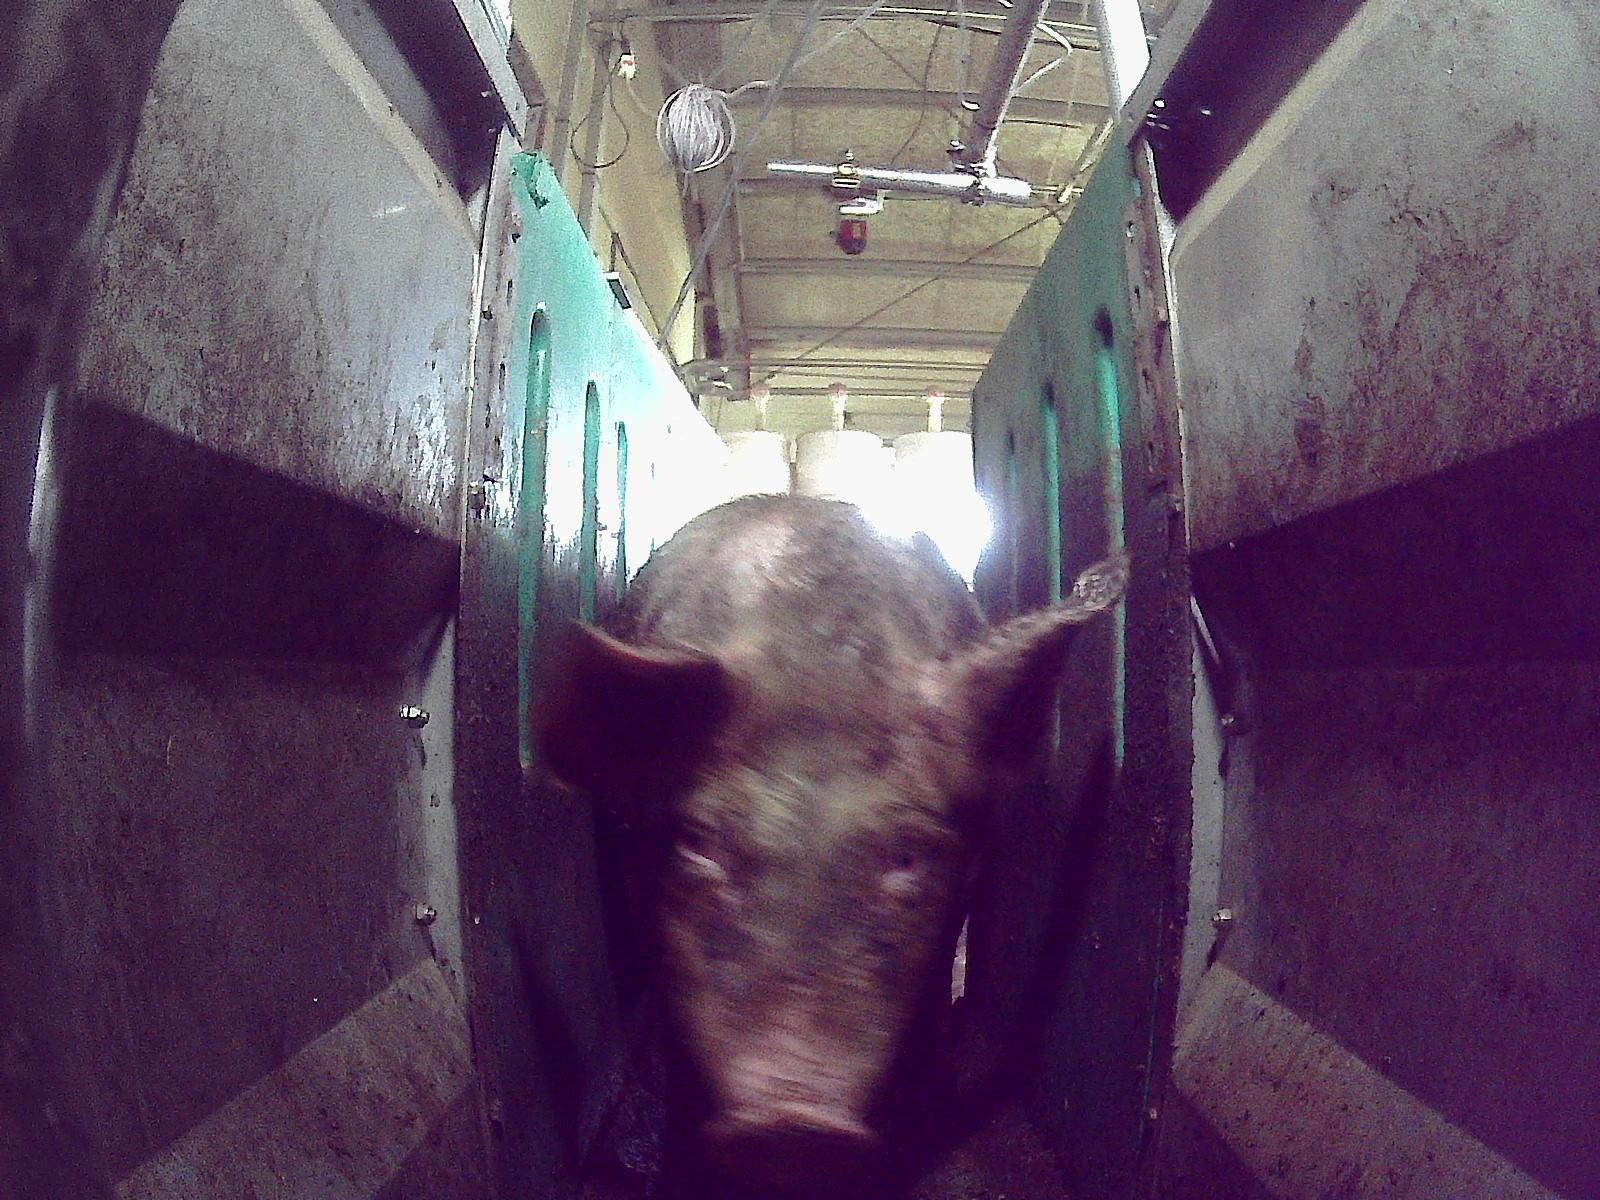Face: (652, 659, 950, 1181)
